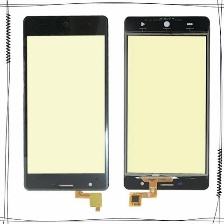phone: (18, 12, 111, 195), (119, 13, 213, 194)
